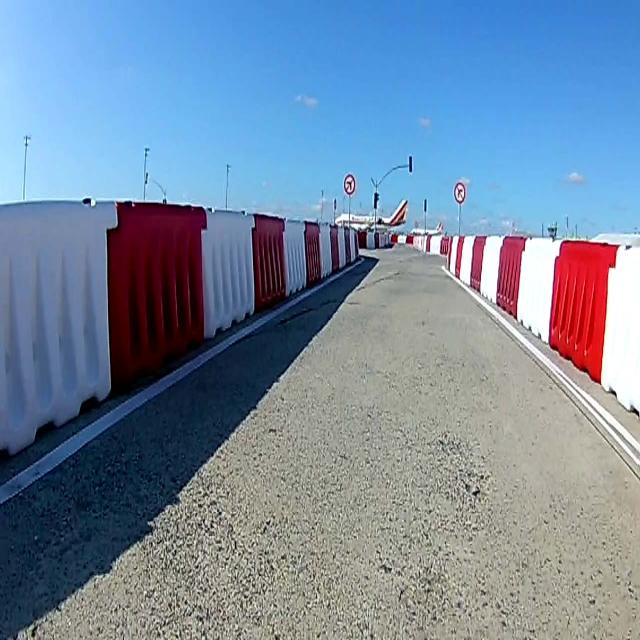sagadonulmez: (453, 182, 463, 204)
soladonulmez: (344, 172, 354, 194)
